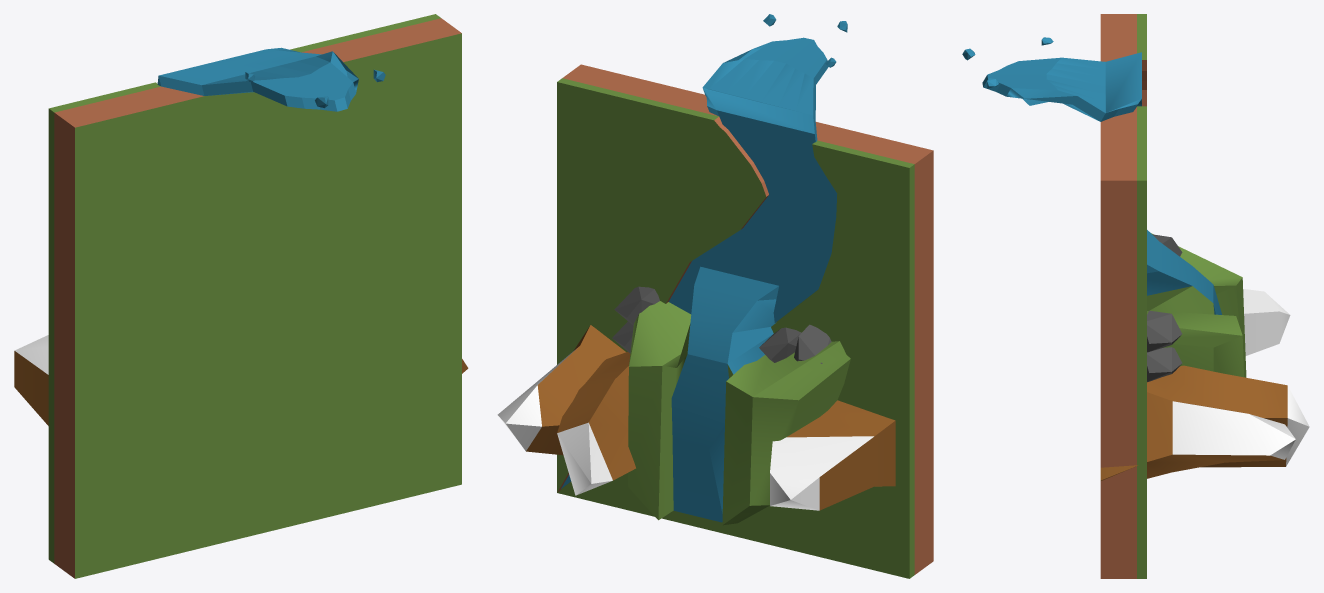
The model's file is jharna Waterfall.fbx.
3 renders of one model, left to right at view 1: azimuth 30°, elevation 25°; view 2: azimuth 150°, elevation 25°; view 3: azimuth 270°, elevation 25°, orthographic. The views are drawn at different scales.
Visible parts, largest first — view 1: imagetostl_mesh6, imagetostl_mesh7, imagetostl_mesh8, imagetostl_mesh1, imagetostl_mesh0; view 2: imagetostl_mesh6, imagetostl_mesh8, imagetostl_mesh9, imagetostl_mesh10, imagetostl_mesh7, imagetostl_mesh1, imagetostl_mesh2, imagetostl_mesh0, imagetostl_mesh4, imagetostl_mesh3, imagetostl_mesh5, imagetostl_mesh11 (+2 smaller); view 3: imagetostl_mesh7, imagetostl_mesh8, imagetostl_mesh9, imagetostl_mesh5, imagetostl_mesh2, imagetostl_mesh6, imagetostl_mesh4, imagetostl_mesh10, imagetostl_mesh0, imagetostl_mesh11, imagetostl_mesh12, imagetostl_mesh3.
Part boxes in pixels (bbox=[...]): imagetostl_mesh6: bbox=[48, 14, 461, 578]; imagetostl_mesh7: bbox=[54, 18, 461, 578]; imagetostl_mesh8: bbox=[157, 47, 358, 111]; imagetostl_mesh1: bbox=[14, 351, 48, 425]; imagetostl_mesh0: bbox=[14, 335, 48, 374]; imagetostl_mesh6: bbox=[557, 78, 914, 578]; imagetostl_mesh8: bbox=[561, 37, 837, 488]; imagetostl_mesh9: bbox=[628, 301, 850, 525]; imagetostl_mesh10: bbox=[671, 266, 778, 522]; imagetostl_mesh7: bbox=[557, 64, 933, 574]; imagetostl_mesh1: bbox=[787, 400, 895, 510]; imagetostl_mesh2: bbox=[557, 352, 635, 480]; imagetostl_mesh0: bbox=[770, 436, 873, 510]; imagetostl_mesh4: bbox=[526, 325, 625, 455]; imagetostl_mesh3: bbox=[557, 422, 612, 495]; imagetostl_mesh5: bbox=[497, 348, 576, 450]; imagetostl_mesh11: bbox=[614, 286, 659, 325]; imagetostl_mesh7: bbox=[1100, 14, 1146, 578]; imagetostl_mesh8: bbox=[982, 52, 1141, 121]; imagetostl_mesh9: bbox=[1147, 233, 1246, 377]; imagetostl_mesh5: bbox=[1172, 401, 1295, 459]; imagetostl_mesh2: bbox=[1147, 365, 1287, 467]; imagetostl_mesh6: bbox=[1137, 14, 1146, 578]; imagetostl_mesh4: bbox=[1100, 392, 1283, 480]; imagetostl_mesh10: bbox=[1147, 230, 1221, 314]; imagetostl_mesh0: bbox=[1243, 289, 1290, 355]; imagetostl_mesh11: bbox=[1147, 310, 1182, 352]; imagetostl_mesh12: bbox=[1147, 347, 1182, 382]; imagetostl_mesh3: bbox=[1286, 385, 1309, 466].
Bounding box in the file's own units: 12052 × 14491 × 10441.
